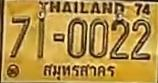0: (67, 17, 87, 58), (88, 18, 108, 58)
1: (36, 17, 44, 58)
2: (109, 18, 129, 59), (130, 19, 150, 60)
7: (9, 16, 30, 57)
SKN: (39, 61, 117, 82)
